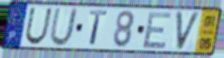8: (112, 9, 136, 50)
E: (141, 11, 174, 49)
T: (88, 9, 109, 47)
U: (48, 7, 79, 48), (24, 7, 54, 47)
V: (174, 10, 202, 52)
